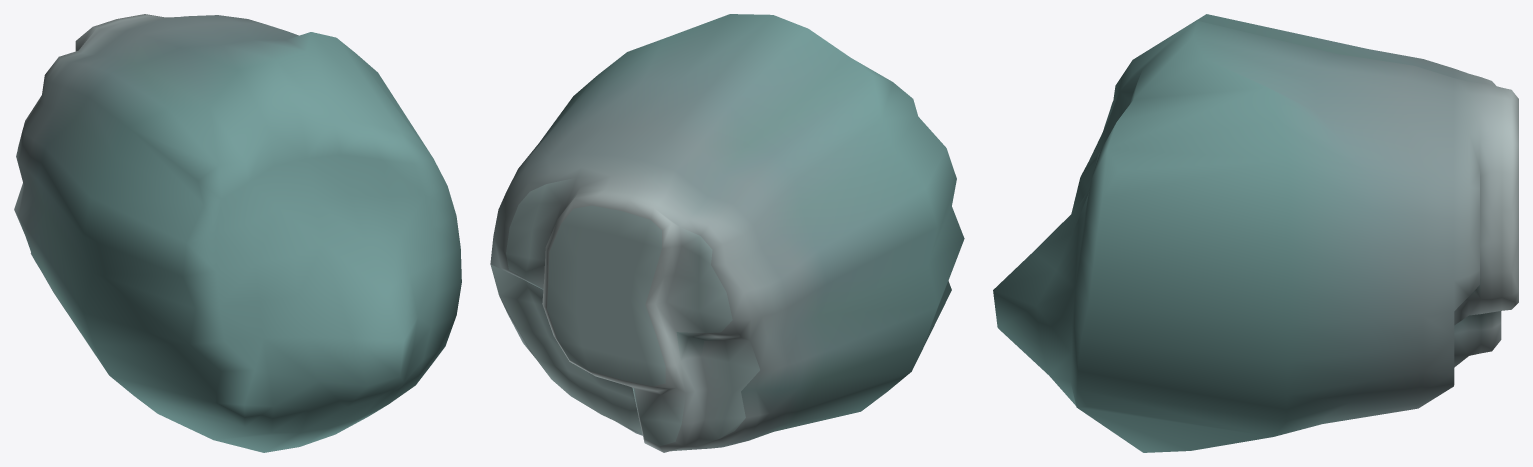
Rendered from Iceberg.002.glb.
3 renders of one model, left to right at view 1: azimuth 30°, elevation 25°; view 2: azimuth 150°, elevation 25°; view 3: azimuth 270°, elevation 25°, orthographic. The views are drawn at different scales.
Visible parts, largest first — view 1: Iceberg.002; view 2: Iceberg.002; view 3: Iceberg.002.
Boxes of the visible parts, x1,y1,x2,y2 form: Iceberg.002: (14,14,461,452); Iceberg.002: (490,14,964,452); Iceberg.002: (993,14,1518,452).
Size of the model in its own units: 750 by 760 by 916.
